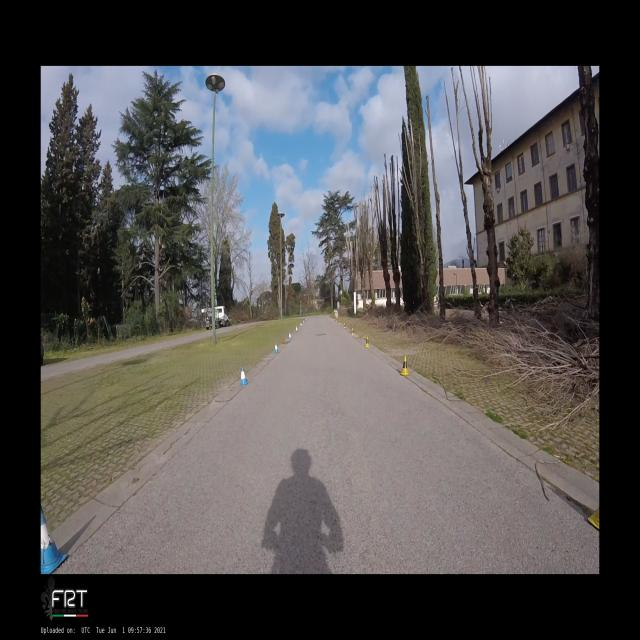blue_cone: (41, 504, 68, 574), (239, 366, 249, 386), (274, 344, 278, 354)
yellow_cone: (588, 504, 599, 530), (400, 356, 410, 376), (364, 336, 370, 347)
